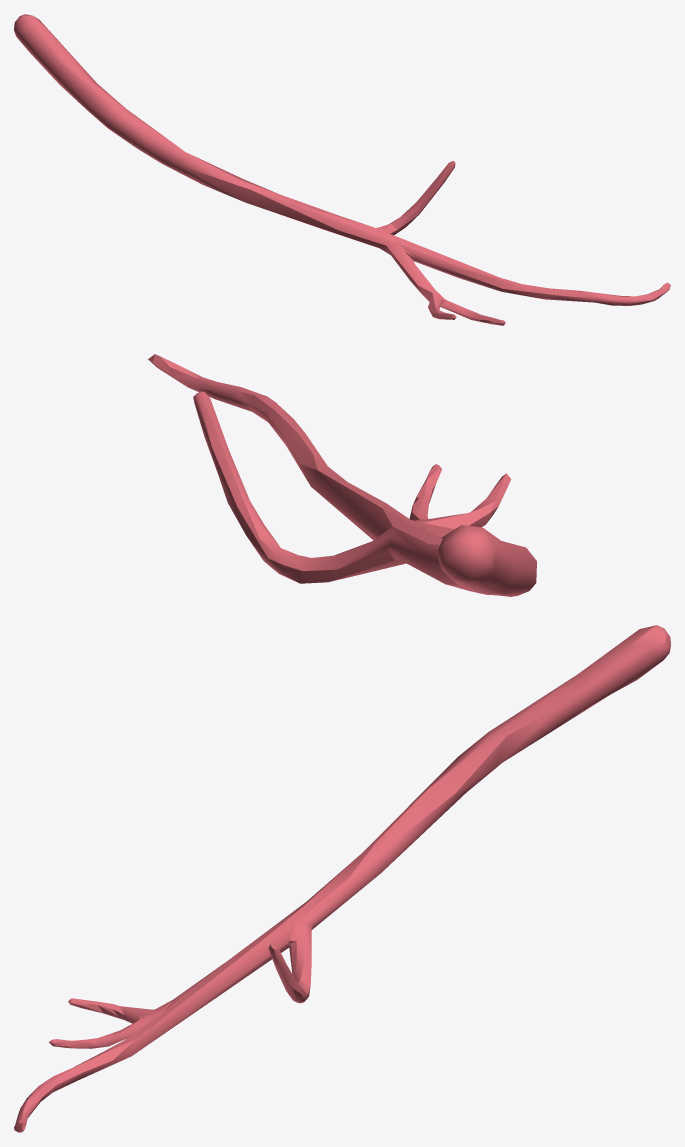
Rendered from fma49562_fj5192.glb.
3 renders of one model, top to bottom at view 1: azimuth 30°, elevation 25°; view 2: azimuth 150°, elevation 25°; view 3: azimuth 270°, elevation 25°, orthographic. The views are drawn at different scales.
Parts seen in each view (by area): view 1: FMA49562_FJ5192; view 2: FMA49562_FJ5192; view 3: FMA49562_FJ5192.
Part boxes in pixels (x1,y1,x2,y2): FMA49562_FJ5192: [14, 14, 670, 325]; FMA49562_FJ5192: [148, 354, 536, 596]; FMA49562_FJ5192: [14, 625, 670, 1132].
Size of the model in its own units: 0.0332 by 0.0159 by 0.035.
